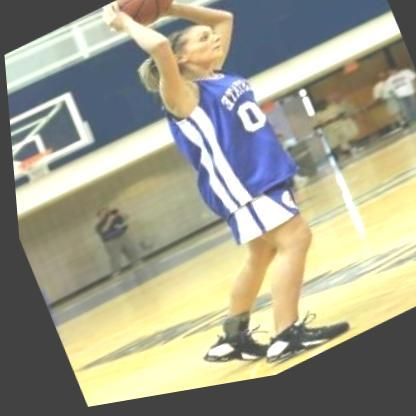basketball: (102, 0, 186, 46)
